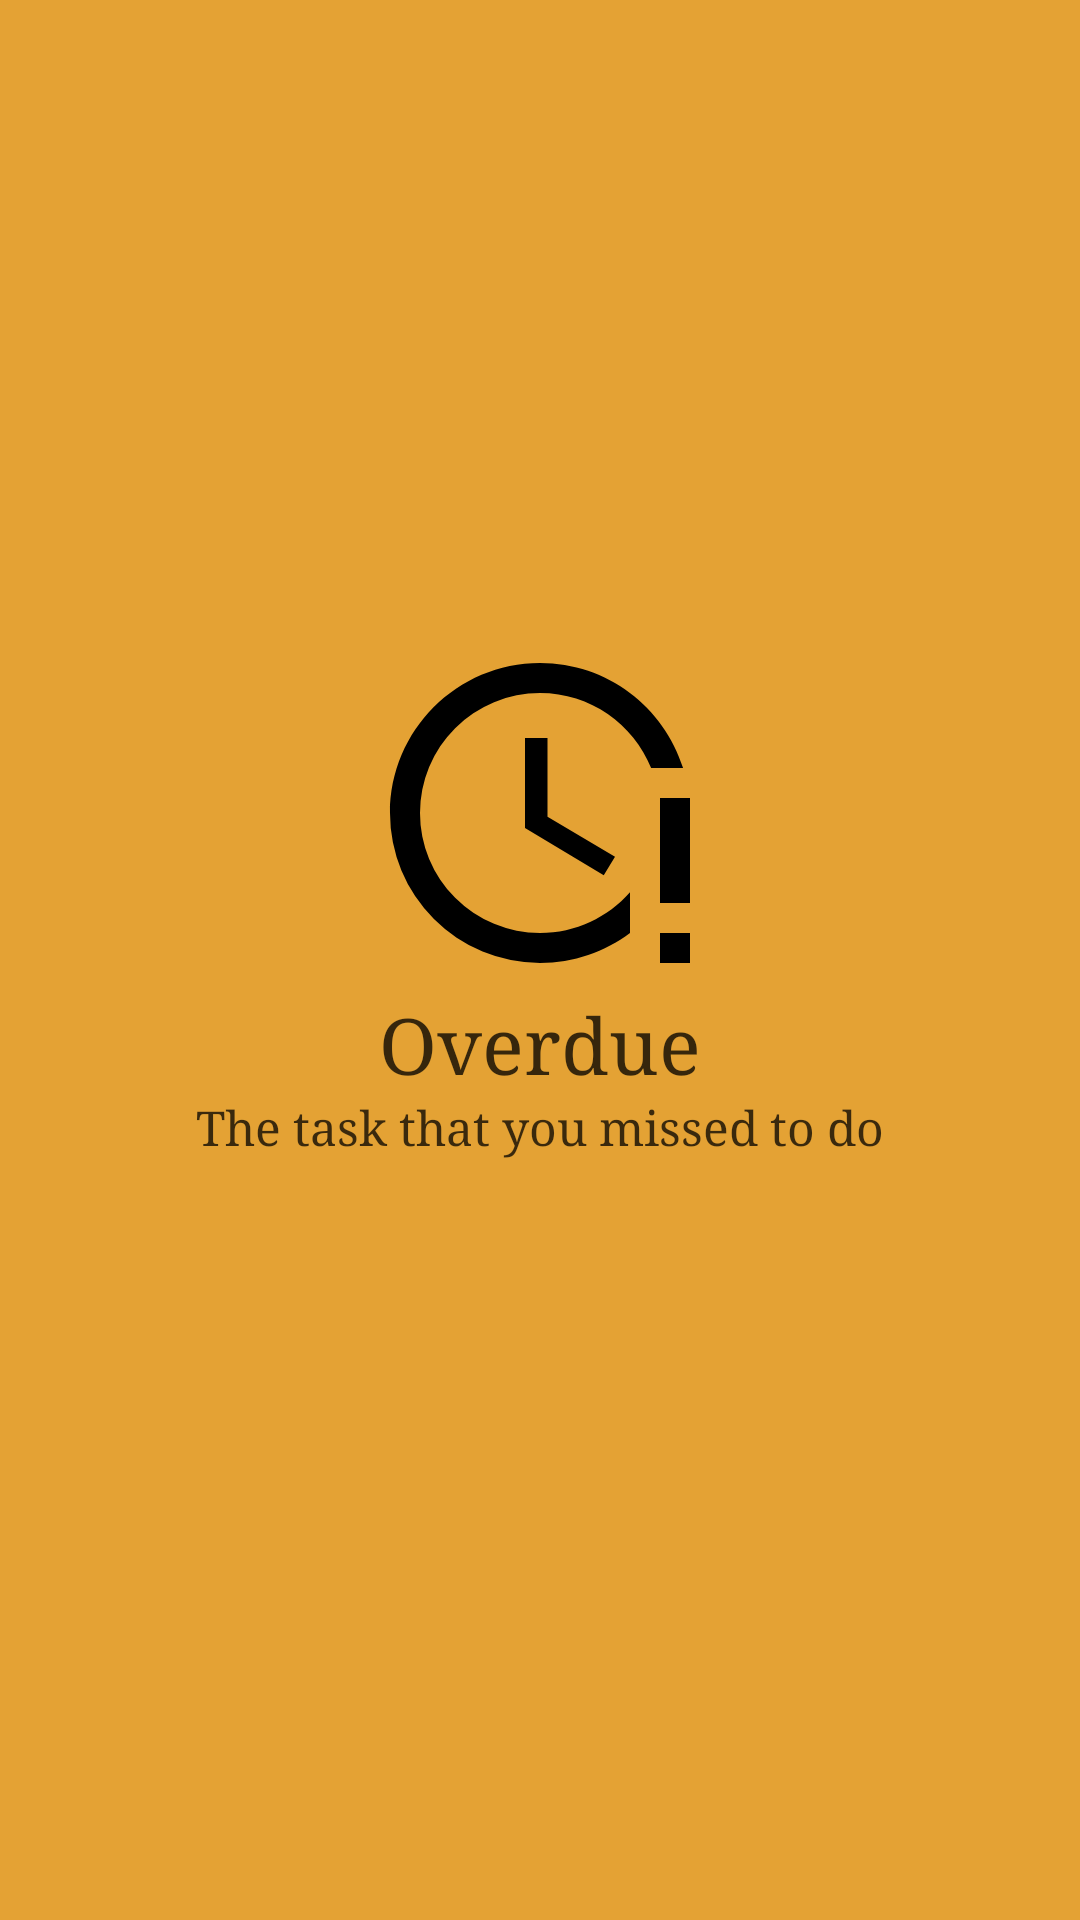

Named icons in this screenshot (1080px×1920px) and their bounding boxes, [left=x1, top=y1, right=x2, bottom=y2]:
later: [left=390, top=663, right=690, bottom=963]
